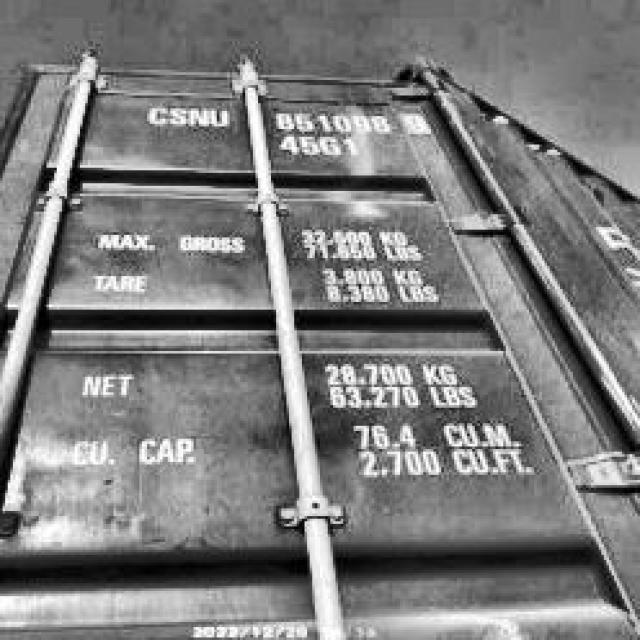ISO: (282, 136, 363, 158)
container_number: (140, 108, 426, 134)
